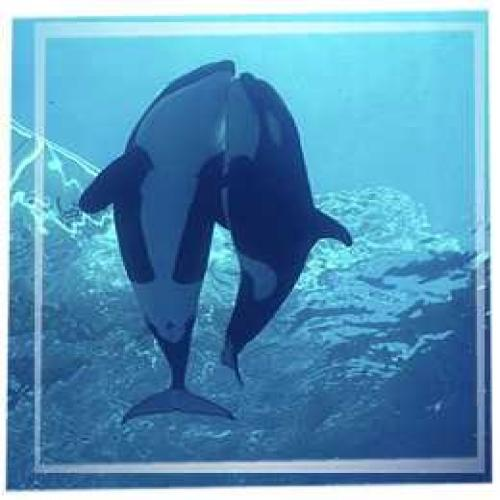killer_whale-endangered: (91, 48, 238, 401), (228, 57, 330, 378)
